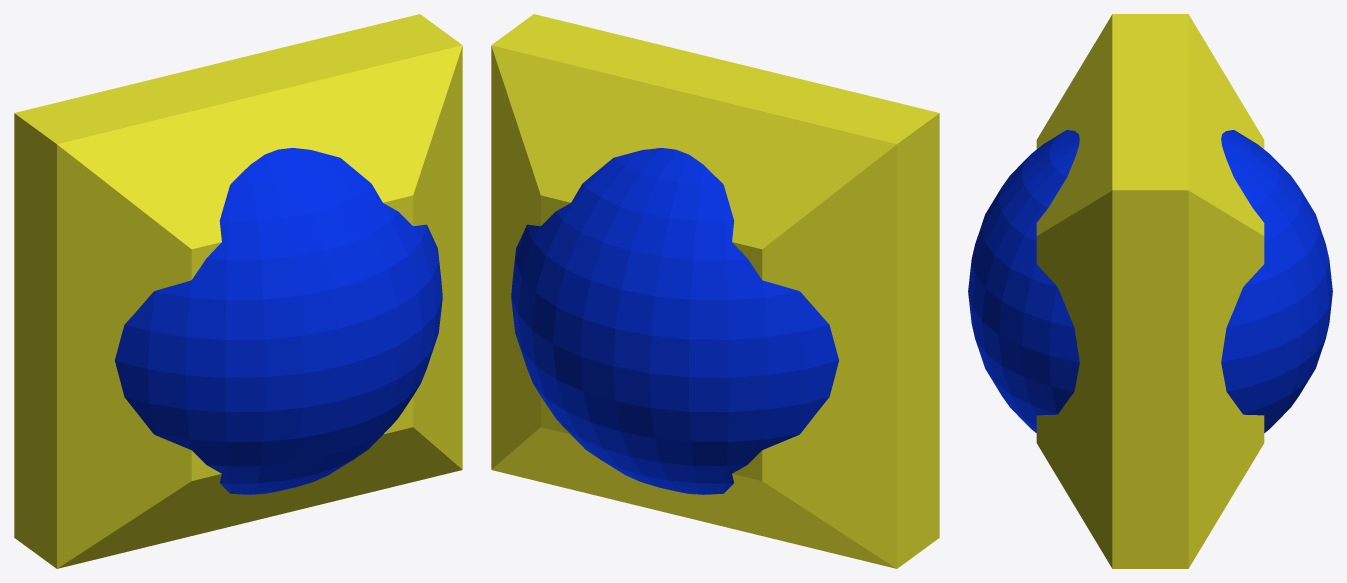
File: HrenDraco.gltf
3 views of the same model, side by side, from view 1: azimuth 30°, elevation 25°; view 2: azimuth 150°, elevation 25°; view 3: azimuth 270°, elevation 25° (orthographic). The views are drawn at different scales.
Visible parts, largest first — view 1: Hren; view 2: Hren; view 3: Hren.
Boxes of the visible parts, x1,y1,x2,y2 form: Hren: (14, 14, 462, 568); Hren: (491, 14, 939, 568); Hren: (968, 14, 1332, 568).
Size of the model in its own units: 3.66 by 3.66 by 3.2.
